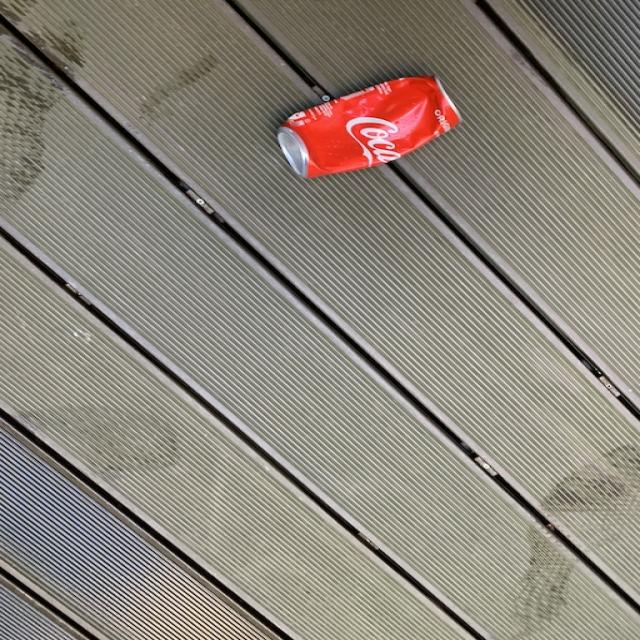litter: (275, 71, 466, 178)
